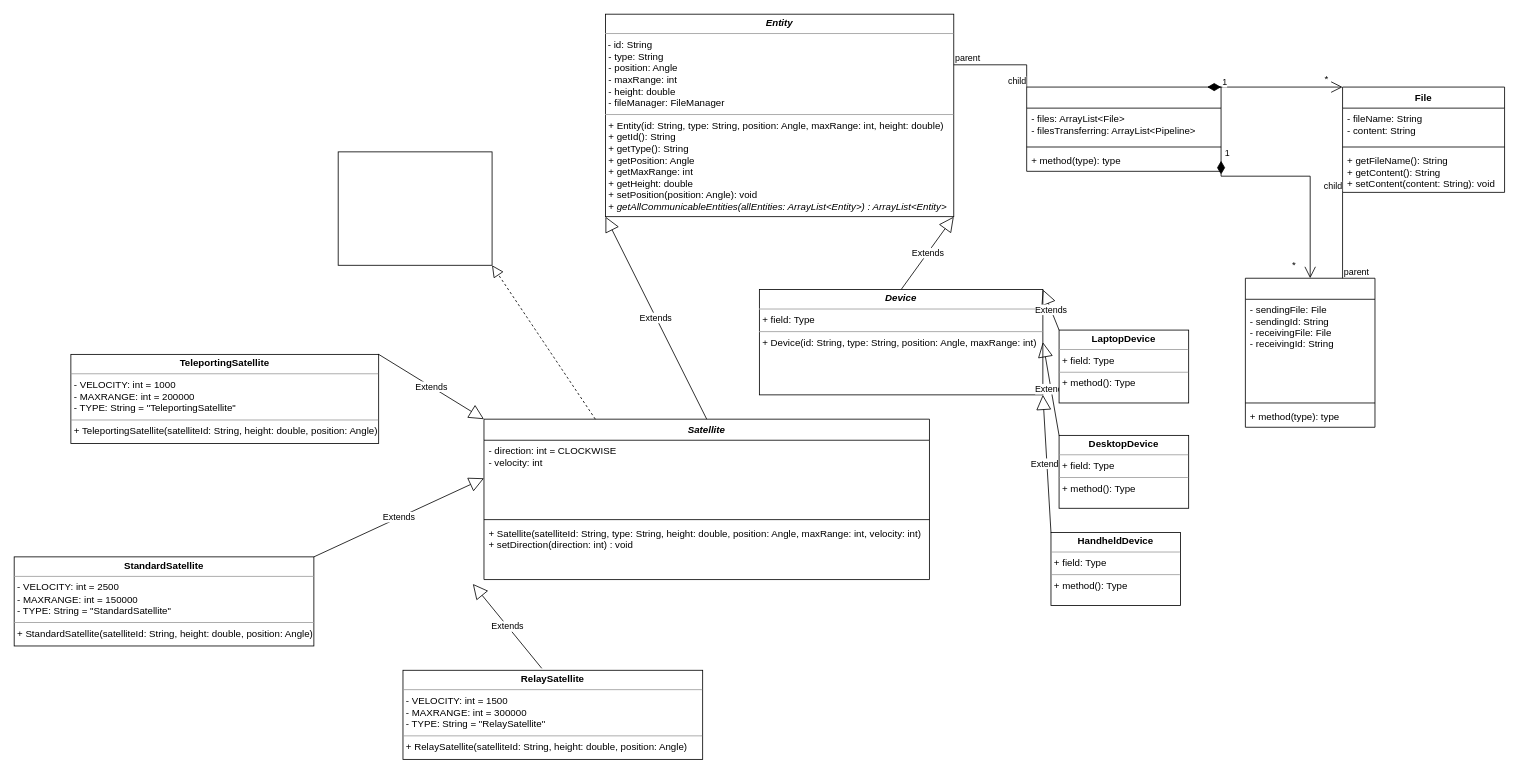
Image size: 1519x774. Some labels were removed from this diagram. Each missing label, with the box of its shape:
<<Interface>> Movement + move(): void: (337, 151, 492, 265)
FileManager: (1026, 86, 1221, 171)
Pipeline: (1245, 277, 1375, 427)
